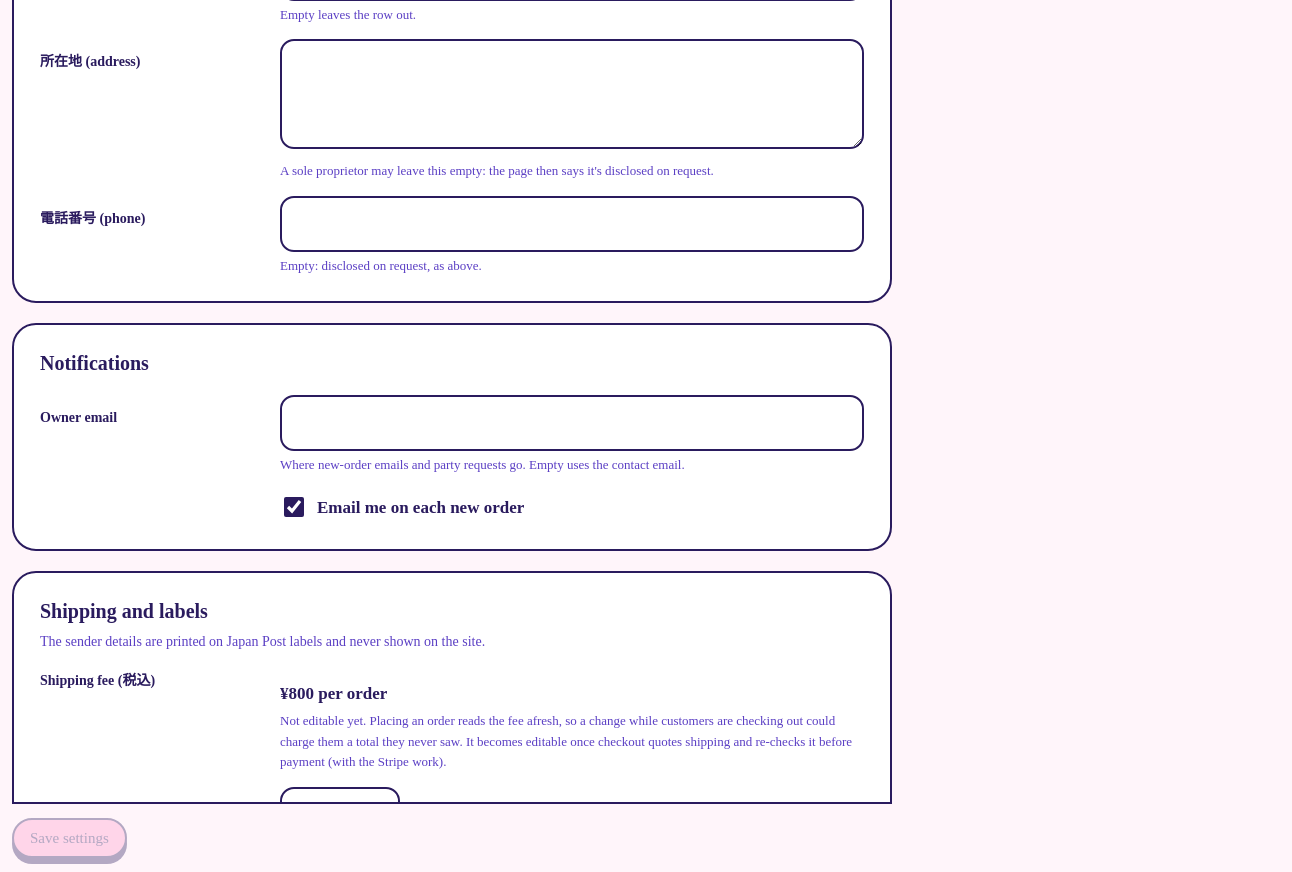
SettingsForm › keeps showing the stored shipping fee after a save, whose answer leaves read-only fields out
The image size is (1292, 872).
(page scrolled)
Expected: the text "¥800 per order" is shown, [280,684,387,703]
Type "owner@example.com" into the field labelled "Owner email" at (572, 423), box [280,395,864,451]
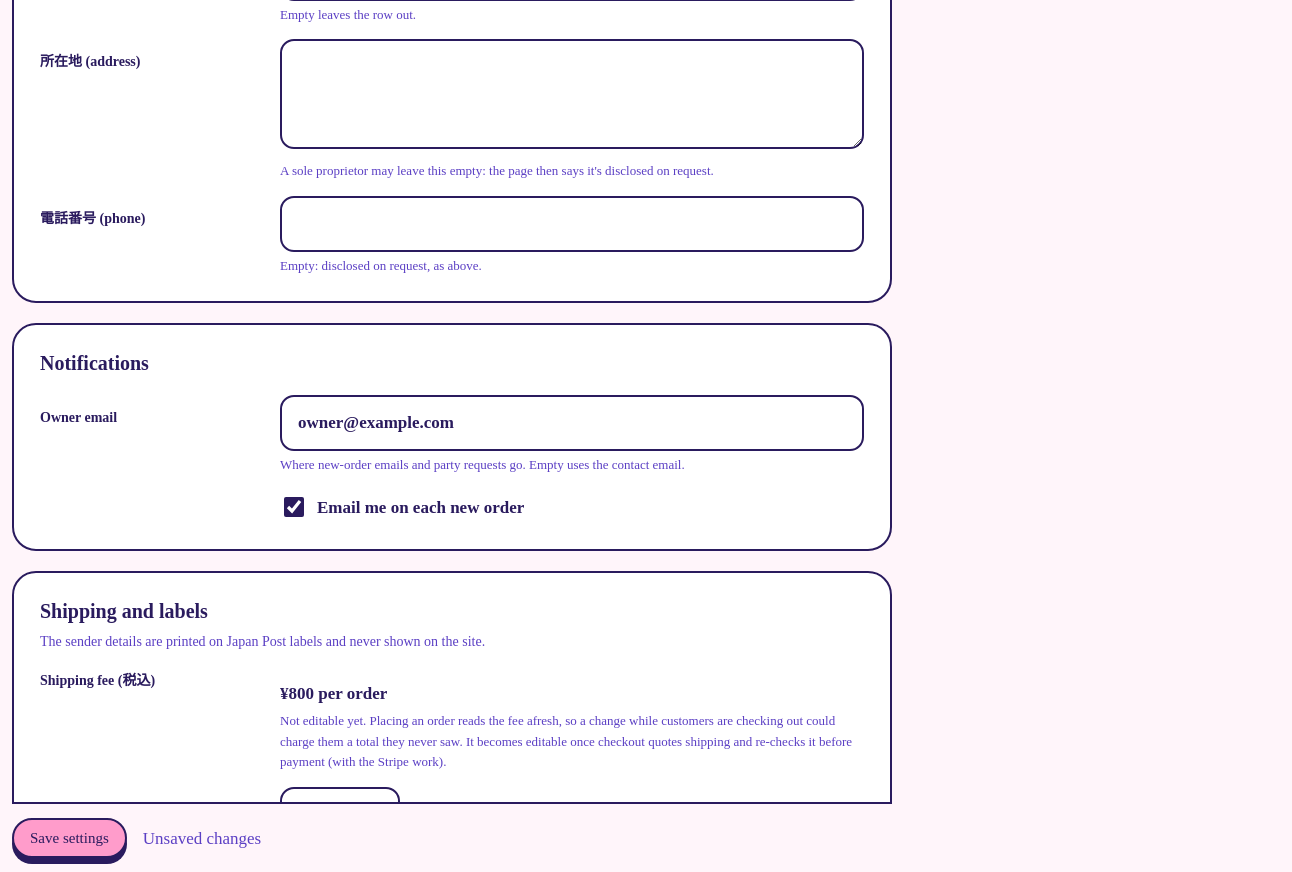
Click the button "Save settings" at (69, 838), box [12,818,127,858]
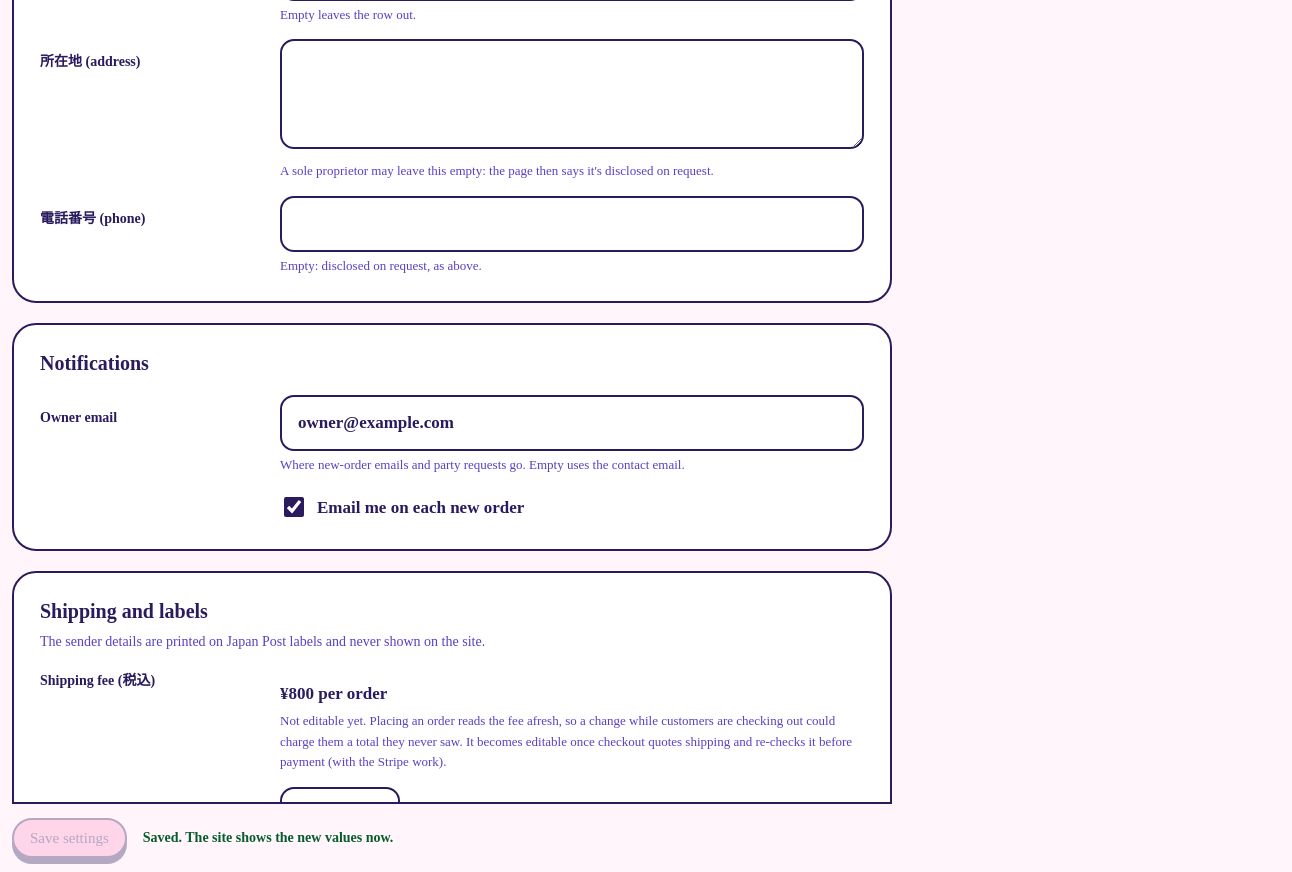
Expected: the text "¥800 per order" is shown, [280,684,387,703]
Now the message shows "Saved", box [143,830,393,845]
Now the button "Save settings" is disabled, box [12,818,127,858]
